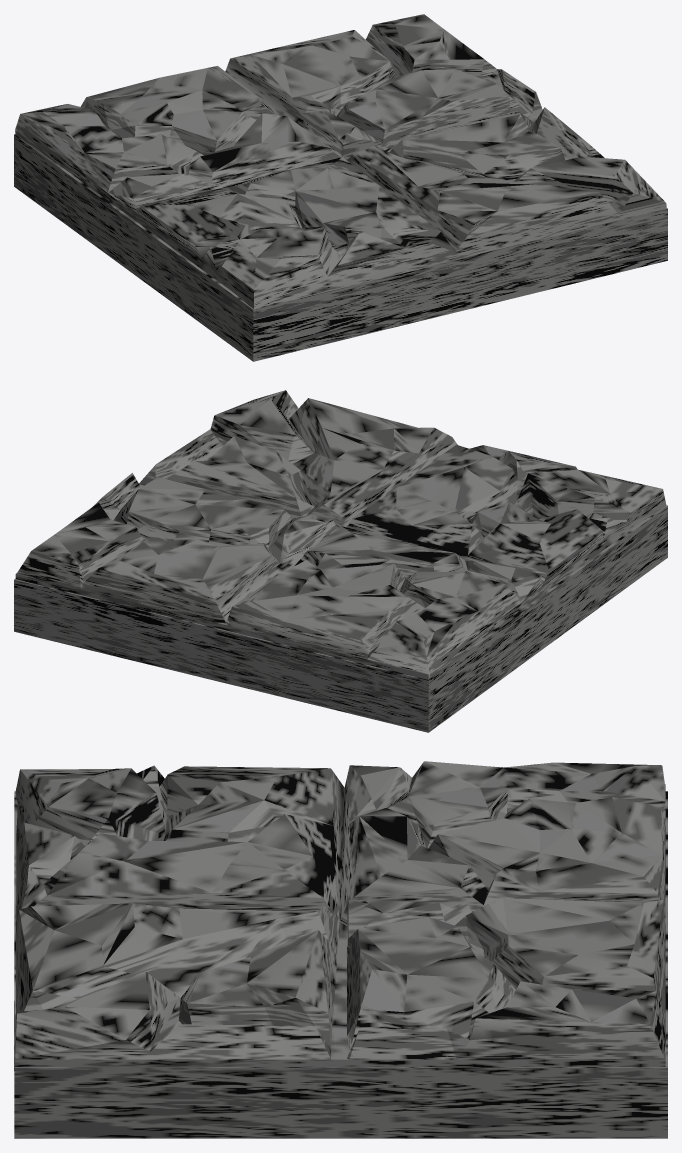
The model's file is rough_stone_floor.fbx.
3 renders of one model, top to bottom at view 1: azimuth 30°, elevation 25°; view 2: azimuth 150°, elevation 25°; view 3: azimuth 270°, elevation 25°, orthographic. The views are drawn at different scales.
Visible parts, largest first — view 1: Cube.001; view 2: Cube.001; view 3: Cube.001.
Boxes of the visible parts, x1,y1,x2,y2 form: Cube.001: [14, 14, 667, 361]; Cube.001: [14, 390, 667, 732]; Cube.001: [14, 761, 667, 1138].
Bounding box in the file's own units: 5002 × 968 × 5001.
1 material, 1 textured.
